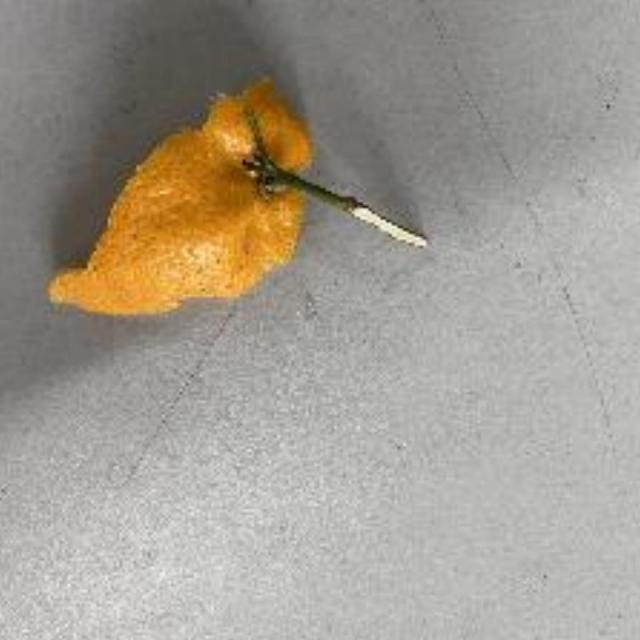orange peel: (43, 81, 320, 319)
